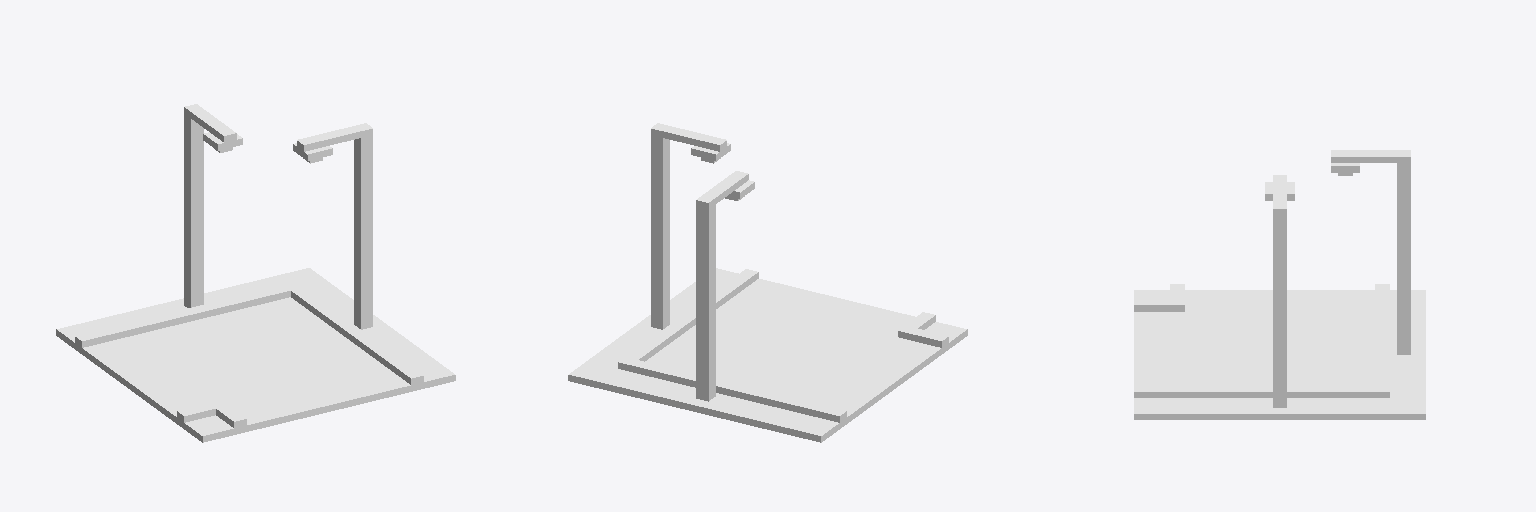
The model's file is road2-1.obj.
The picture shows the model from 3 angles: view 1: azimuth 30°, elevation 25°; view 2: azimuth 150°, elevation 25°; view 3: azimuth 270°, elevation 25°; orthographic projection.
Visible parts, largest first — view 1: object 1; view 2: object 1; view 3: object 1.
Boxes of the visible parts, box(x1,y1,x2,y2) form: object 1: box(56, 104, 455, 442); object 1: box(568, 123, 967, 442); object 1: box(1134, 150, 1425, 419).
Bounding box in the file's own units: 4 × 3.1 × 4.